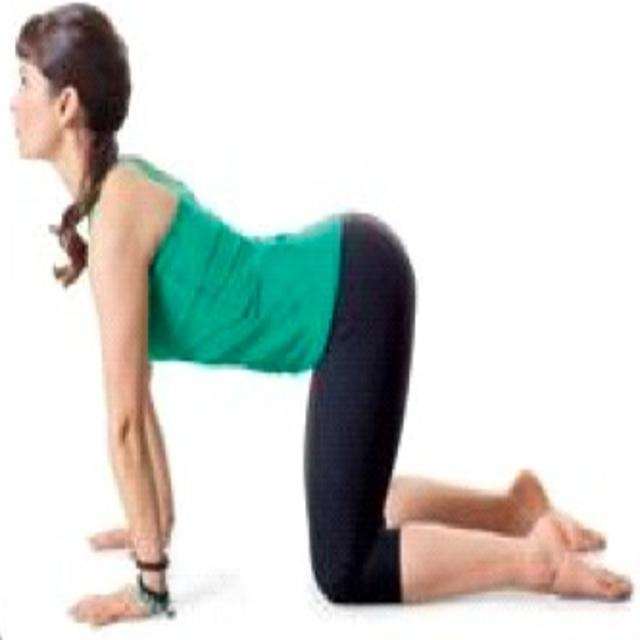Cow_Pose: (10, 4, 633, 629)
